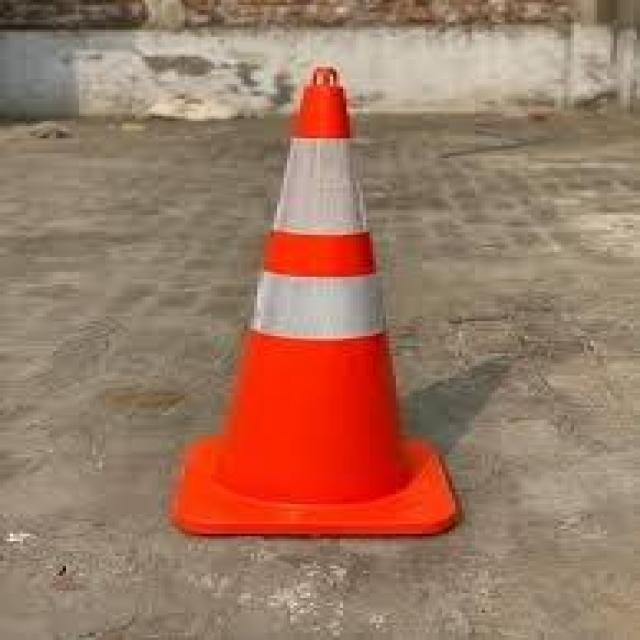cone: (175, 64, 462, 540)
